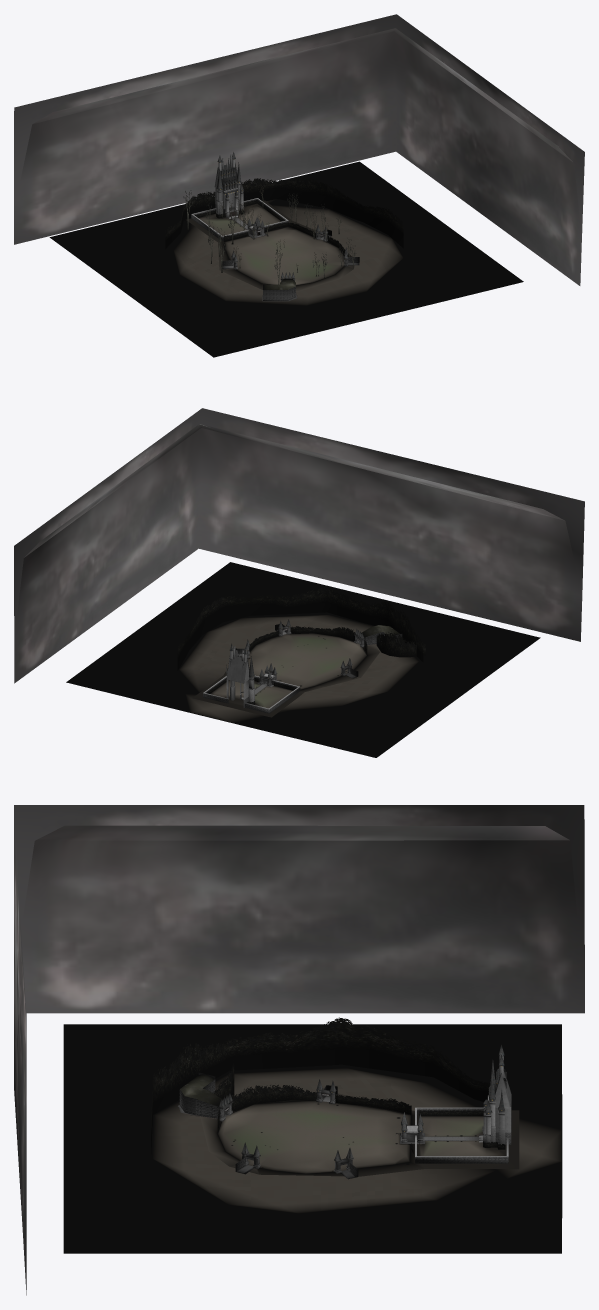
File: bossbot_country_club.glb
3 renders of one model, top to bottom at view 1: azimuth 30°, elevation 25°; view 2: azimuth 150°, elevation 25°; view 3: azimuth 270°, elevation 25°, orthographic. The views are drawn at different scales.
Parts seen in each view (by area): view 1: LB_SkySides, grass_outside, LB_SkyTop, grass_inside, outsideHedgeTop, outsideHedgeBottem, polySurface16, closebushes; view 2: LB_SkySides, grass_outside, LB_SkyTop, grass_inside, outsideHedgeTop, outsideHedgeBottem, outsideHedgeTop1, closebushes, polySurface16; view 3: LB_SkySides, grass_outside, LB_SkyTop, grass_inside, outsideHedgeTop, outsideHedgeBottem, closebushes, polySurface16, tunnel_ceiling.
Part boxes in pixels (x1,y1,x2,y2): LB_SkySides: (14, 14, 584, 285); grass_outside: (49, 161, 523, 357); LB_SkyTop: (22, 28, 578, 214); grass_inside: (186, 200, 354, 292); outsideHedgeTop: (165, 178, 403, 240); outsideHedgeBottem: (165, 188, 403, 248); polySurface16: (191, 198, 288, 241); closebushes: (224, 222, 345, 253); LB_SkySides: (14, 408, 584, 683); grass_outside: (66, 562, 540, 757); LB_SkyTop: (18, 424, 575, 609); grass_inside: (192, 629, 379, 717); outsideHedgeTop: (177, 587, 423, 658); outsideHedgeBottem: (177, 603, 423, 670); outsideHedgeTop1: (376, 631, 425, 657); closebushes: (249, 626, 367, 655); polySurface16: (203, 675, 300, 713); LB_SkySides: (14, 805, 584, 1295); grass_outside: (63, 1024, 562, 1253); LB_SkyTop: (25, 825, 575, 908); grass_inside: (200, 1092, 519, 1176); outsideHedgeTop: (151, 1017, 511, 1139); outsideHedgeBottem: (151, 1048, 511, 1153); closebushes: (217, 1084, 413, 1159); polySurface16: (415, 1107, 508, 1163); tunnel_ceiling: (180, 1074, 222, 1106).
Size of the model in its own units: 952 by 327 by 812.
Materials: 34 (29 with a texture image).
